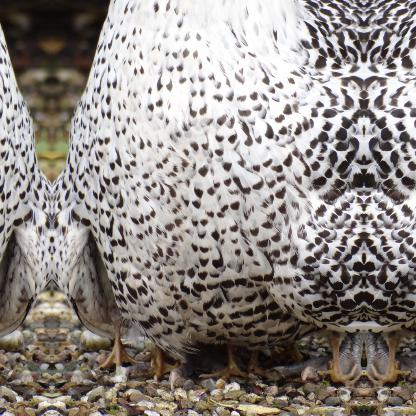Bird: (52, 0, 362, 386)
